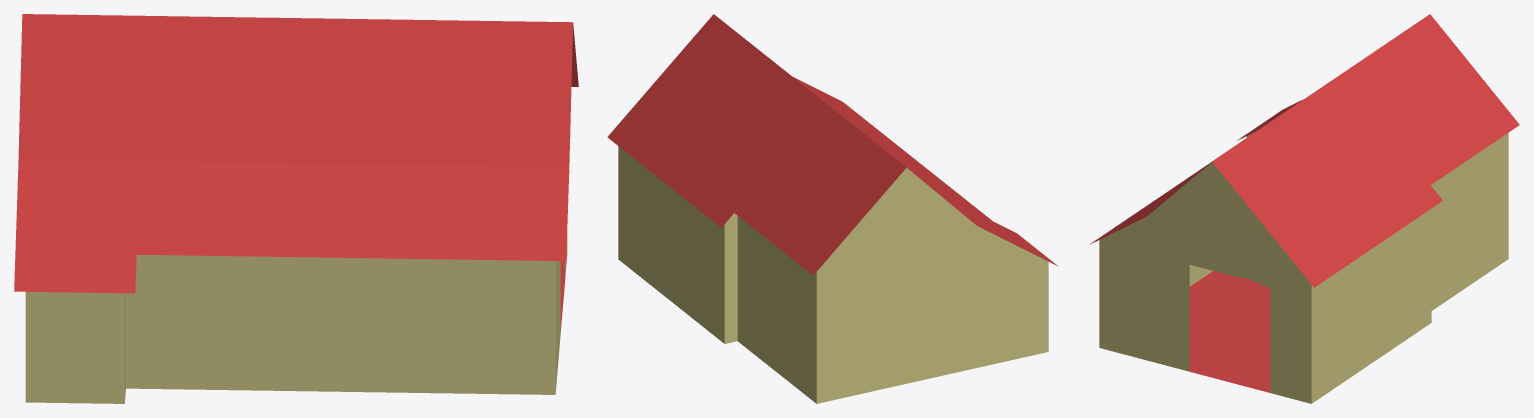
3 renders of one model, left to right at view 1: azimuth 30°, elevation 25°; view 2: azimuth 150°, elevation 25°; view 3: azimuth 270°, elevation 25°, orthographic. The views are drawn at different scales.
Size of the model in its own units: 30.56 by 26.15 by 14.71.
